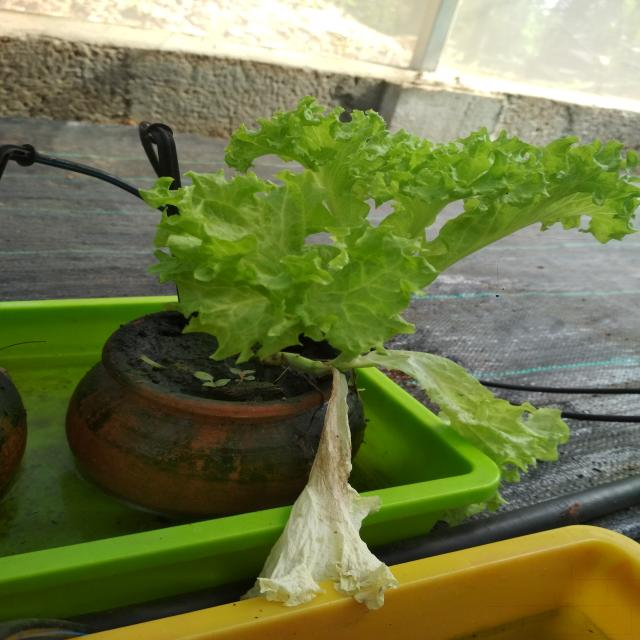Lettuce-Not-Ready-to-Harvest: (152, 103, 640, 468)
